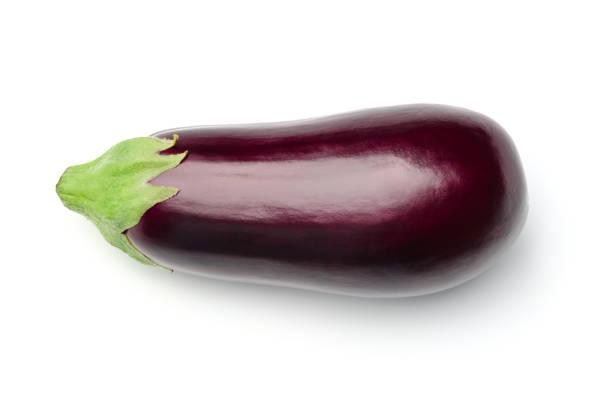Brinjal: (50, 101, 528, 305)
